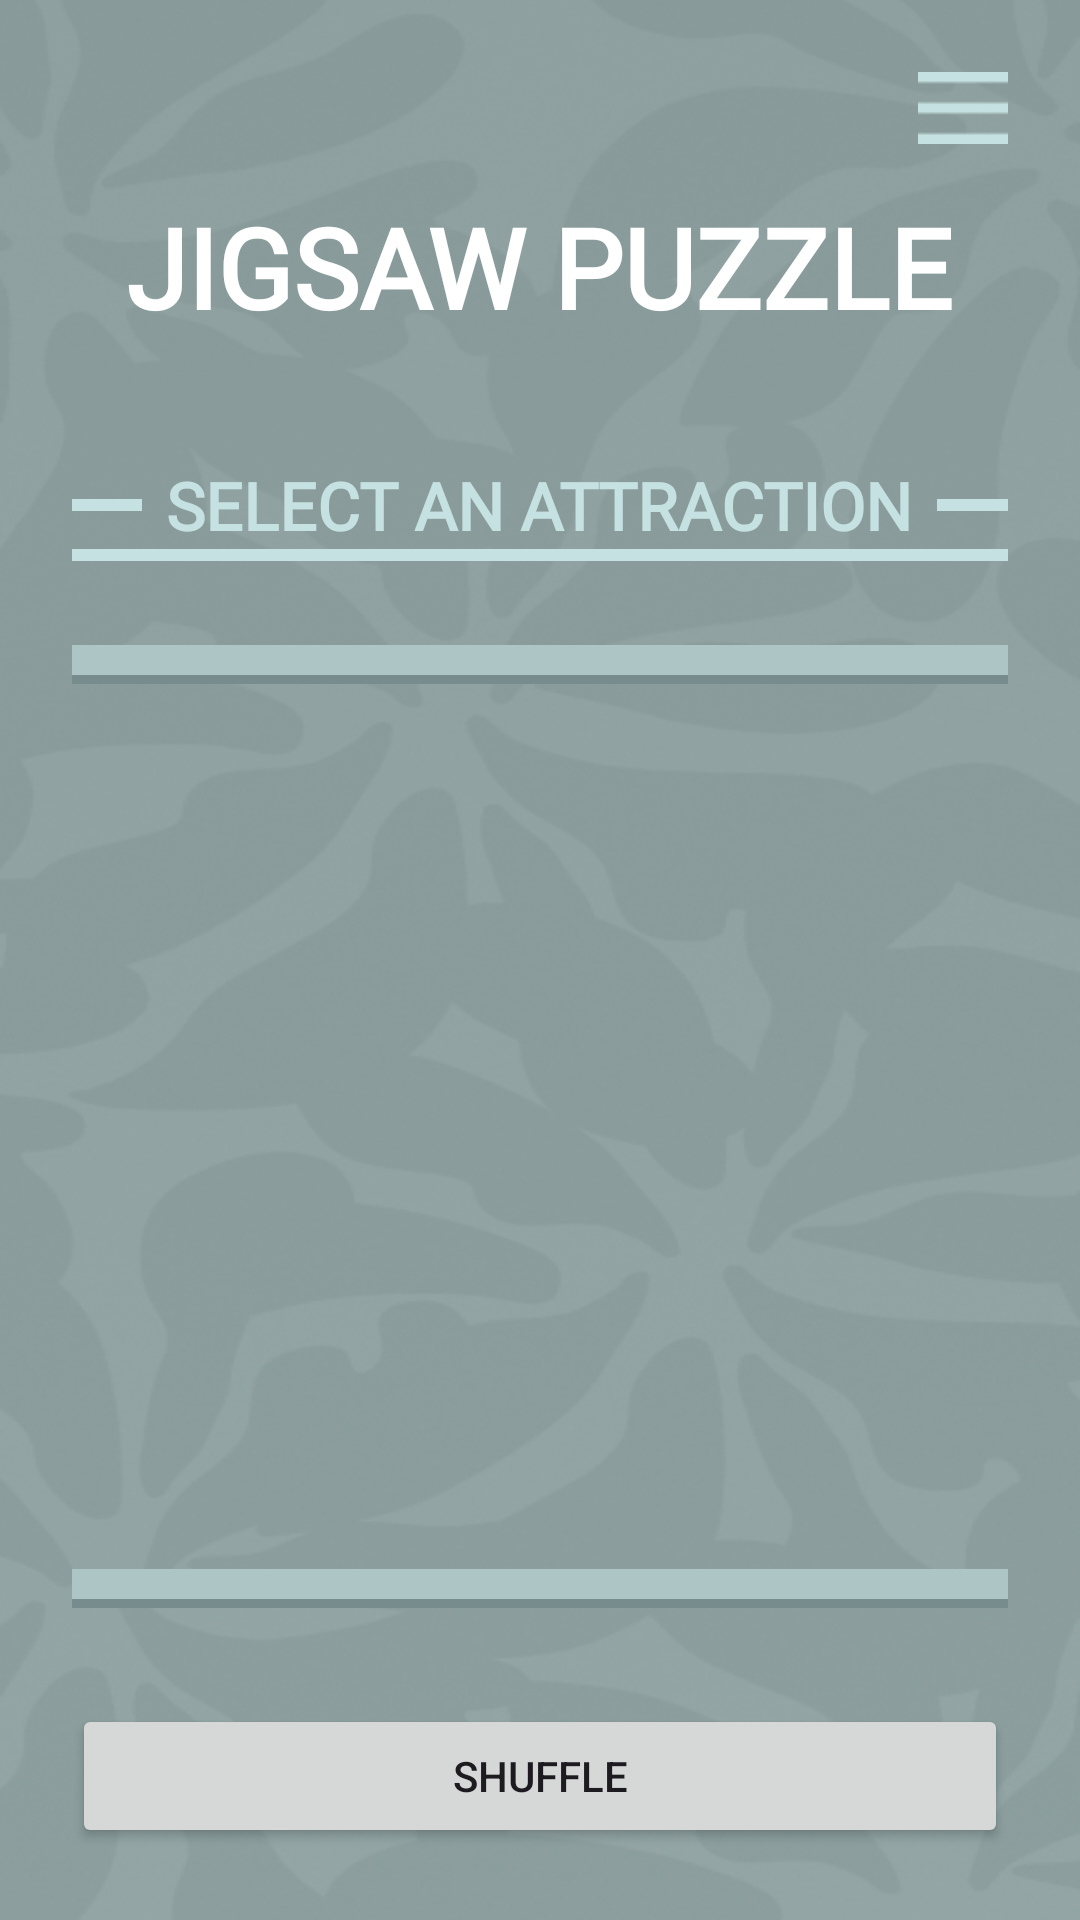

Screen size 1080 x 1920. Icon name, then its center in pixels as point (x, y):
menu: point (963, 108)
